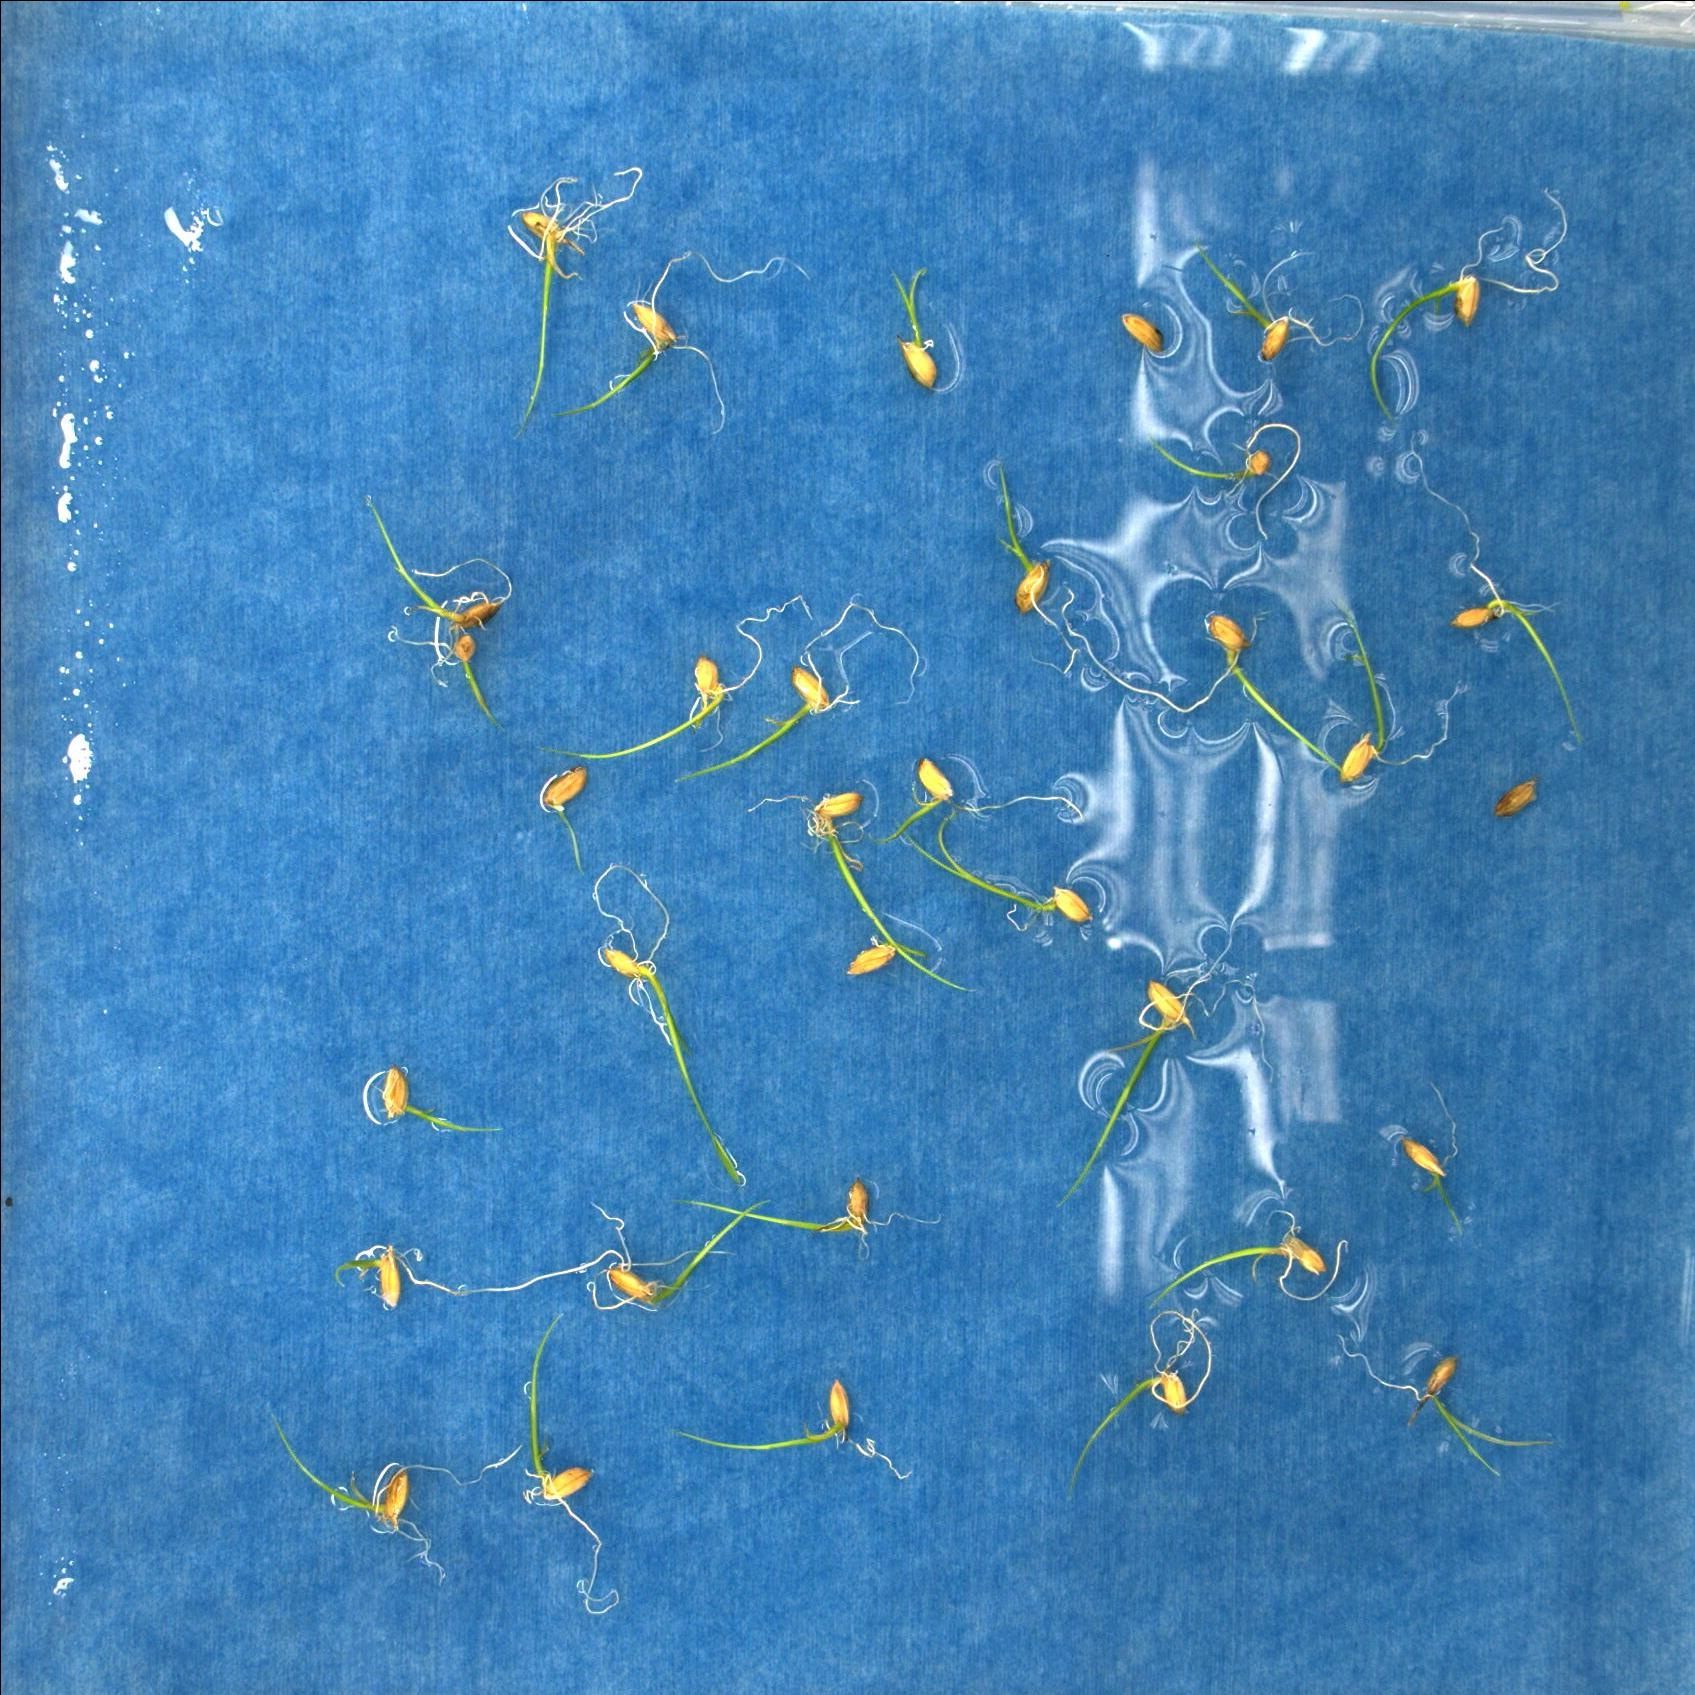not sprout: (536, 757, 587, 843), (1487, 771, 1544, 829), (1118, 307, 1166, 354)
sprout: (573, 852, 754, 1191), (740, 782, 983, 1010), (1355, 185, 1582, 428), (1406, 449, 1586, 754), (247, 1400, 517, 1599), (675, 598, 927, 798), (983, 461, 1180, 714), (543, 247, 804, 436), (1062, 938, 1240, 1214), (584, 585, 816, 775), (498, 157, 644, 438), (1048, 1305, 1220, 1506), (518, 1298, 622, 1624), (1336, 1332, 1551, 1478), (1170, 602, 1343, 778), (1324, 590, 1467, 789), (661, 1380, 917, 1479), (1139, 1203, 1366, 1315), (893, 810, 1101, 930), (324, 1232, 622, 1315), (582, 1192, 775, 1319), (674, 1172, 945, 1254), (359, 490, 509, 636), (1194, 237, 1357, 369), (1146, 421, 1305, 539), (1388, 1077, 1484, 1242), (402, 601, 504, 730), (366, 1062, 512, 1152), (886, 261, 955, 394), (872, 761, 969, 854), (835, 930, 934, 981)
